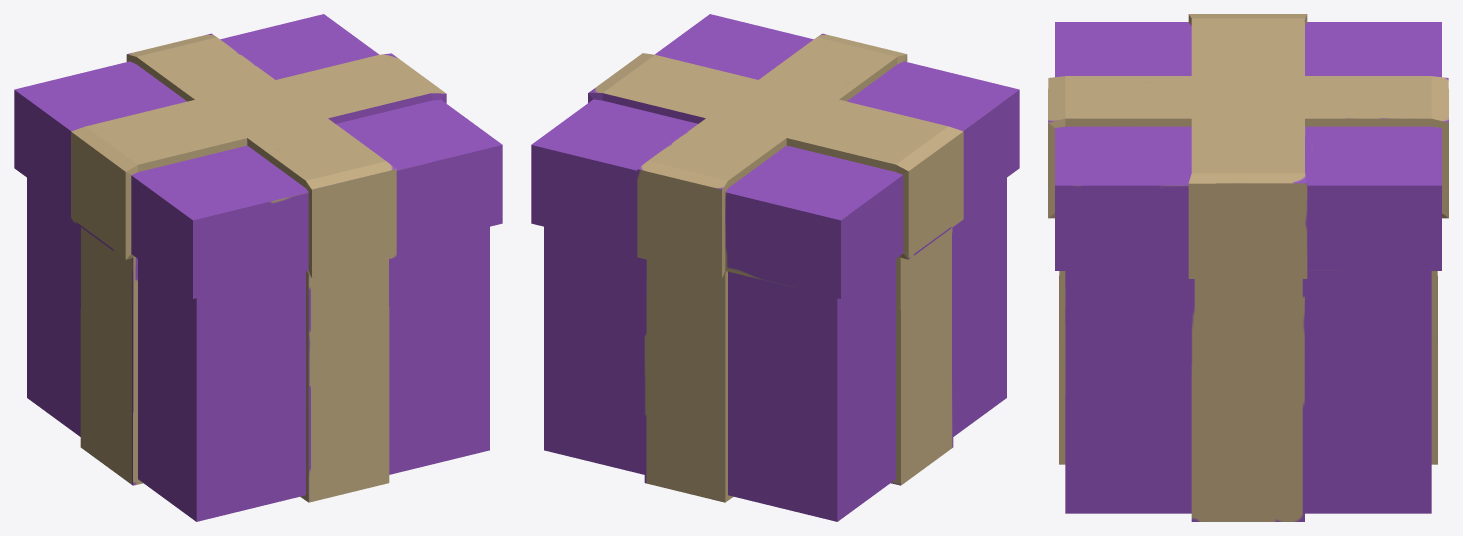
Rendered from GiftBox_1.fbx.
3 renders of one model, left to right at view 1: azimuth 30°, elevation 25°; view 2: azimuth 150°, elevation 25°; view 3: azimuth 270°, elevation 25°, orthographic. The views are drawn at different scales.
Visible parts, largest first — view 1: Giftbox one; view 2: Giftbox one; view 3: Giftbox one.
Boxes of the visible parts, bbox=[...] form: Giftbox one: bbox=[14, 14, 502, 521]; Giftbox one: bbox=[531, 14, 1019, 521]; Giftbox one: bbox=[1048, 14, 1448, 521].
Bounding box in the file's own units: 219 × 210 × 219.
